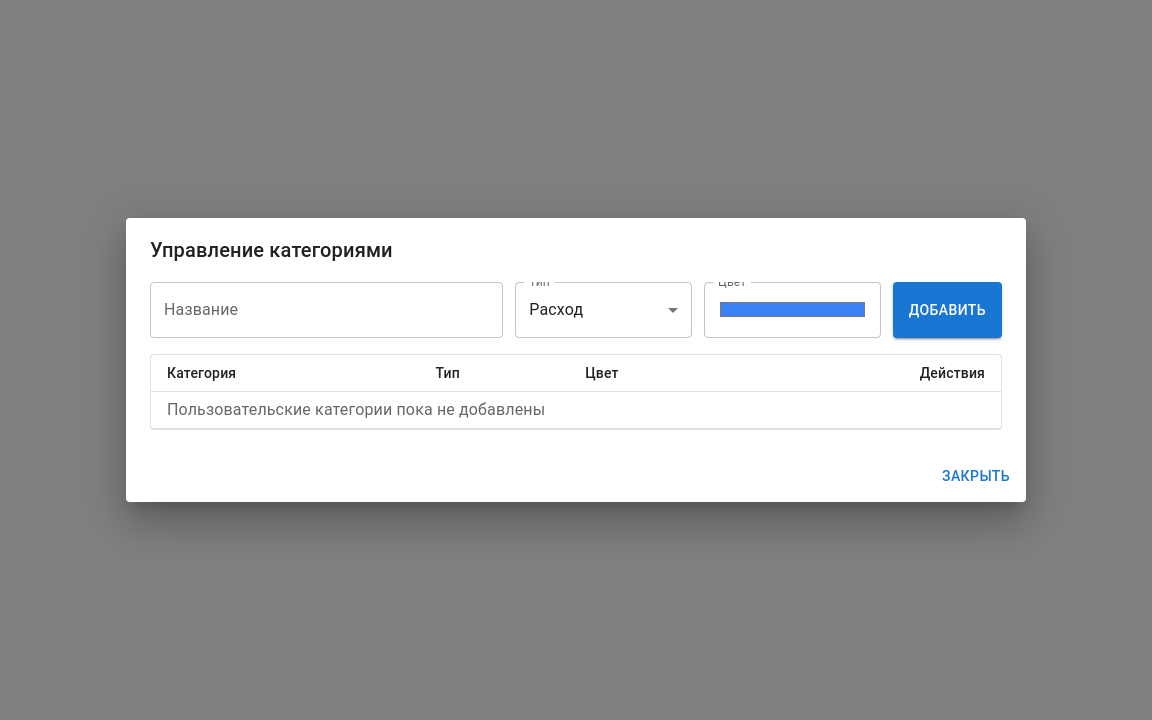
Test case: CategoryManager › shows validation error for short name
Type "A" into the field labelled "Название" at coordinates (327, 310), box [150,282,503,338]
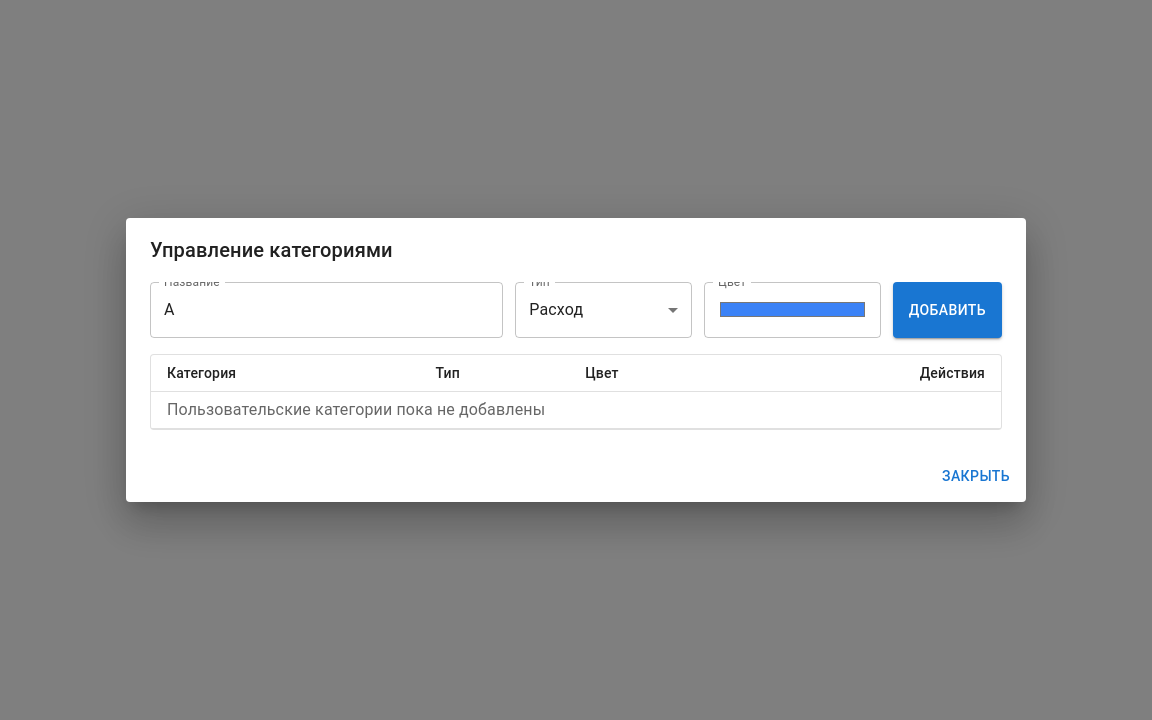
Click the button "Добавить" at coordinates (947, 310), box [893,282,1002,338]
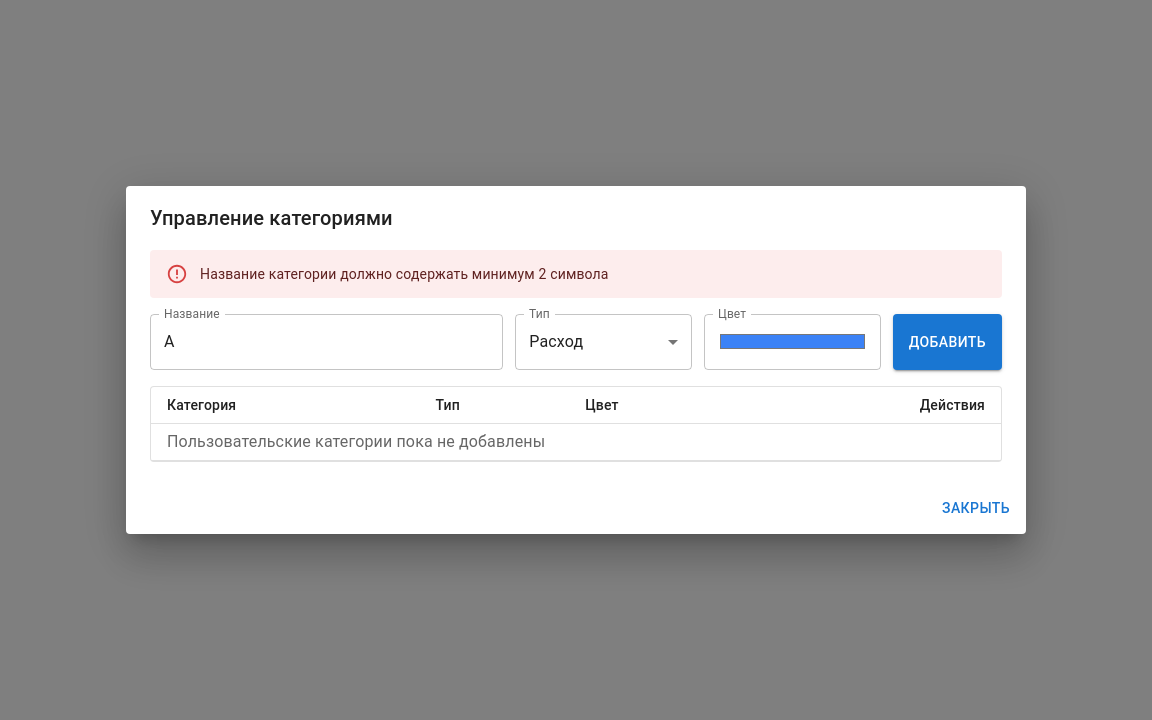
Now the text "Название категории должно содержать минимум 2 символа" is shown, box [200,266,609,282]
